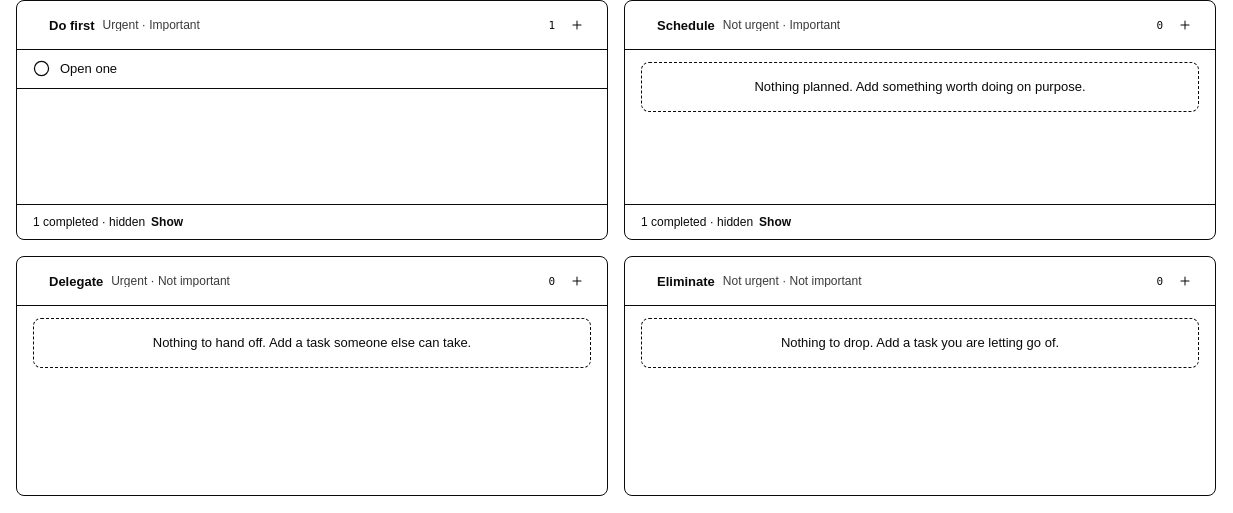
Scenario: EisenhowerMatrix › turns the "N completed" line into a button that reveals that quadrant's finished tasks, struck through, and hides them again
Check: the text "Finished one" is not shown
Click the button "1 completed · hidden Show" below "Do first": (74,222) [17,205,607,239]
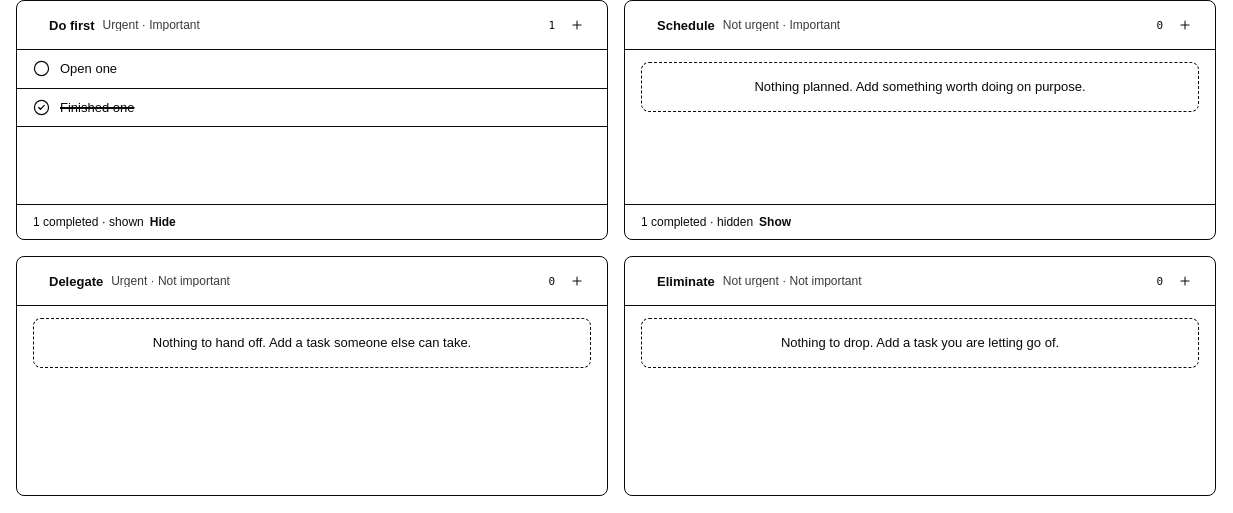
Check: the text "Open one" is shown, box [60,61,117,76]
Check: the button "1 completed · shown Hide" is expanded
Click the button "1 completed · shown Hide": (74,222) [17,205,607,239]
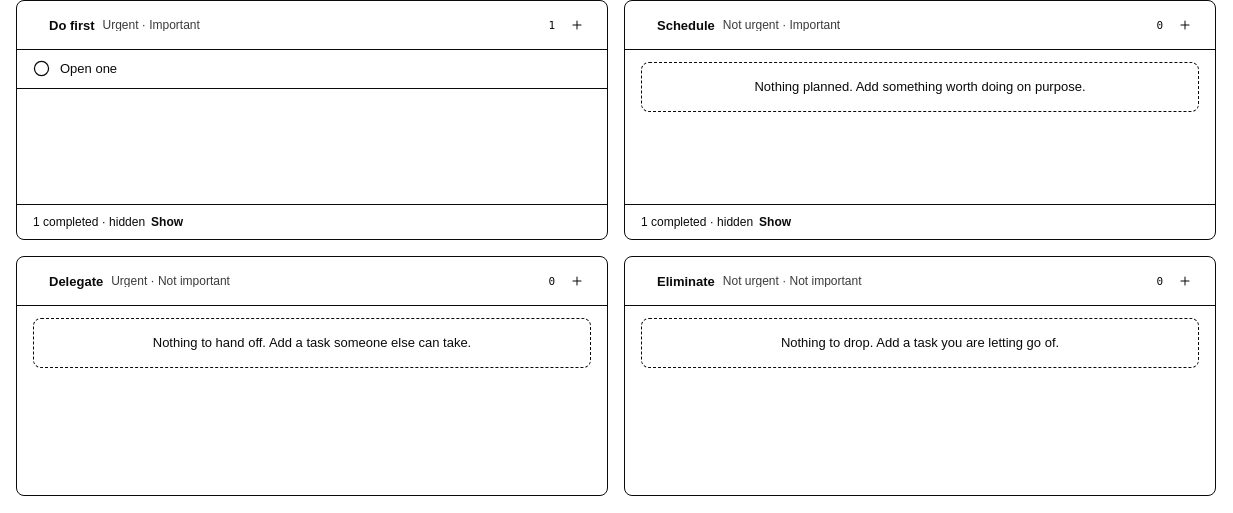
Check: the button "Finished one" is gone
